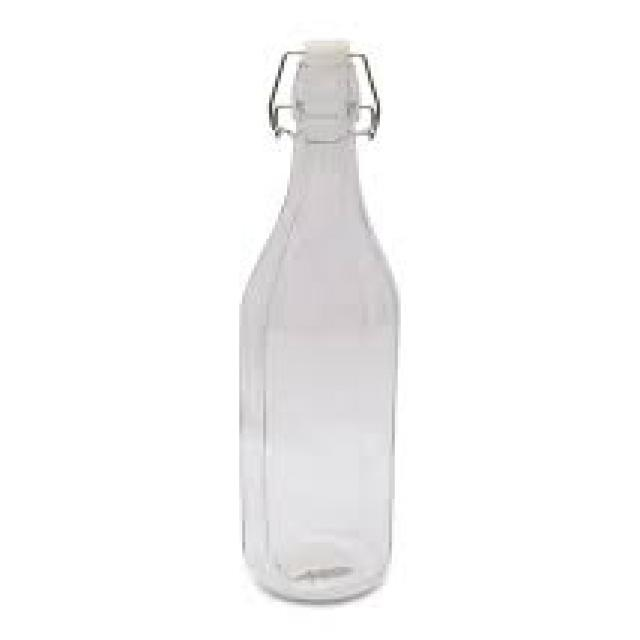Glass-Non-Biodegradable but Recyclable-: (239, 37, 404, 603)
